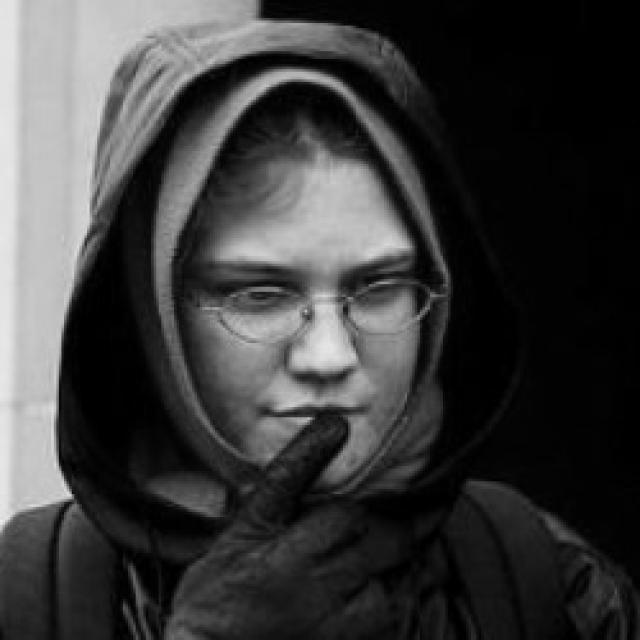real: (180, 158, 422, 490), (218, 264, 417, 331)
